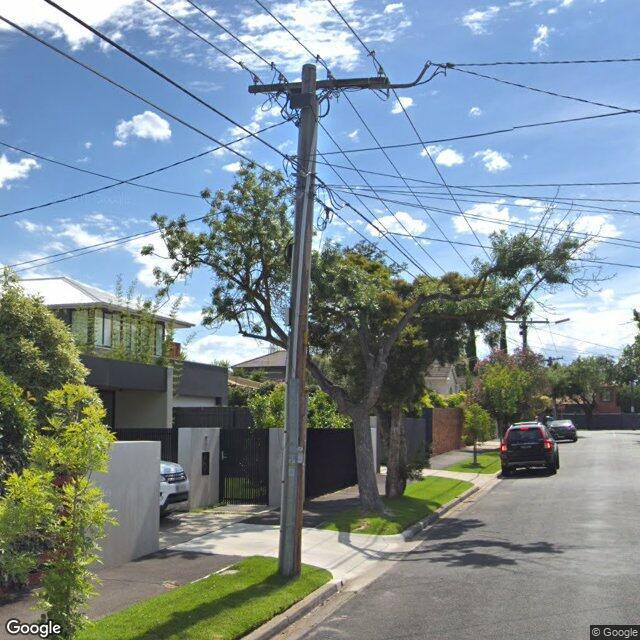crossarm: (238, 49, 391, 95), (505, 320, 550, 324)
streetlight: (550, 317, 570, 325)
timber-pole: (278, 61, 320, 578), (523, 317, 528, 347)
